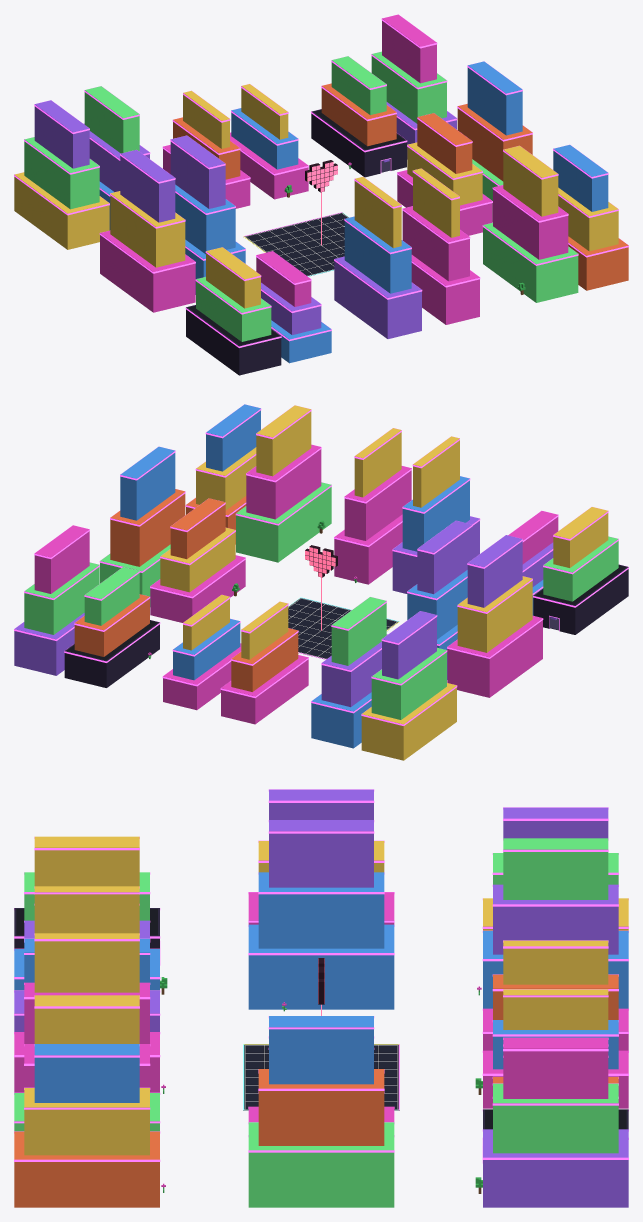
3 views of the same model, one above another, from view 1: azimuth 30°, elevation 25°; view 2: azimuth 150°, elevation 25°; view 3: azimuth 270°, elevation 25° (orthographic). The views are drawn at different scales.
Parts seen in each view (by area): view 1: district_city_pixel.lod1; view 2: district_city_pixel.lod1; view 3: district_city_pixel.lod1.
Boxes of the visible parts, x1,y1,x2,y2 form: district_city_pixel.lod1: (14, 14, 628, 375); district_city_pixel.lod1: (14, 404, 628, 760); district_city_pixel.lod1: (14, 789, 628, 1207).
Bounding box in the file's own units: 97.1 × 29.96 × 97.1.
